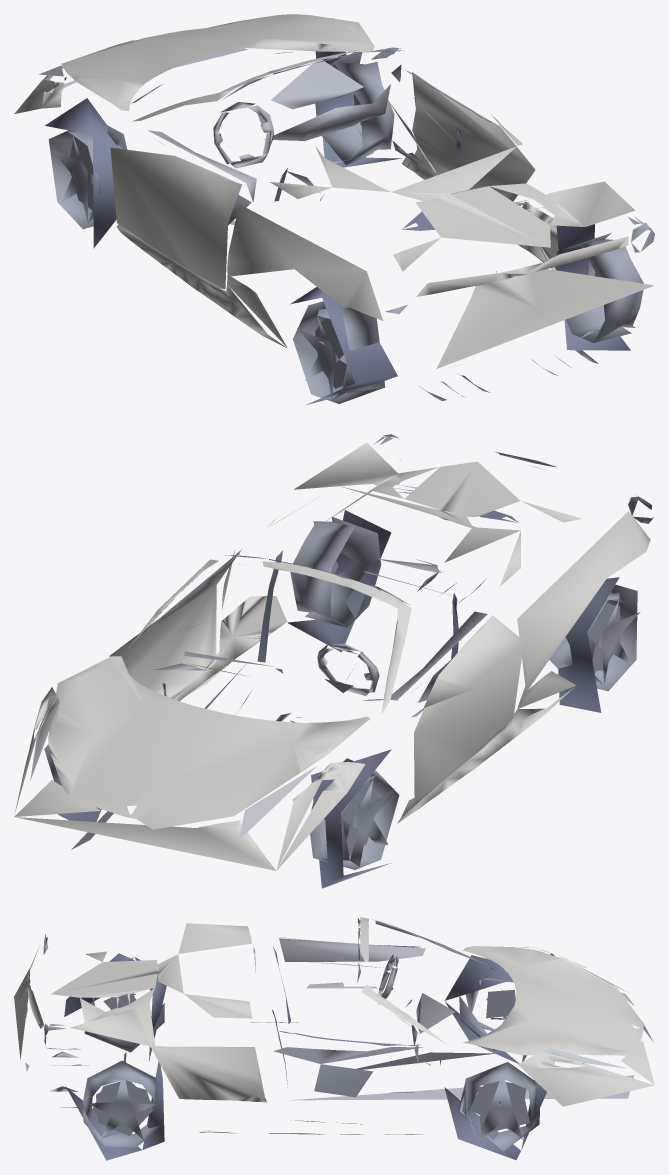
File: coupe-street.glb
3 renders of one model, top to bottom at view 1: azimuth 30°, elevation 25°; view 2: azimuth 150°, elevation 25°; view 3: azimuth 270°, elevation 25°, orthographic. The views are drawn at different scales.
Parts seen in each view (by area): view 1: chassis, door; view 2: chassis, door, chassis_glass; view 3: chassis, door, chassis_glass.
Boxes of the visible parts, left/top/right/bottom form: chassis: left=14, top=14, right=654, bottom=405; door: left=110, top=130, right=287, bottom=289; chassis: left=14, top=434, right=653, bottom=888; door: left=390, top=593, right=524, bottom=808; chassis_glass: left=30, top=558, right=444, bottom=839; chassis: left=14, top=917, right=654, bottom=1160; door: left=273, top=937, right=425, bottom=1023; chassis_glass: left=254, top=949, right=628, bottom=1068.
Bounding box in the file's own units: 2.12 × 1.28 × 4.49.
